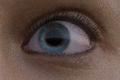eye: (39, 23, 70, 54)
